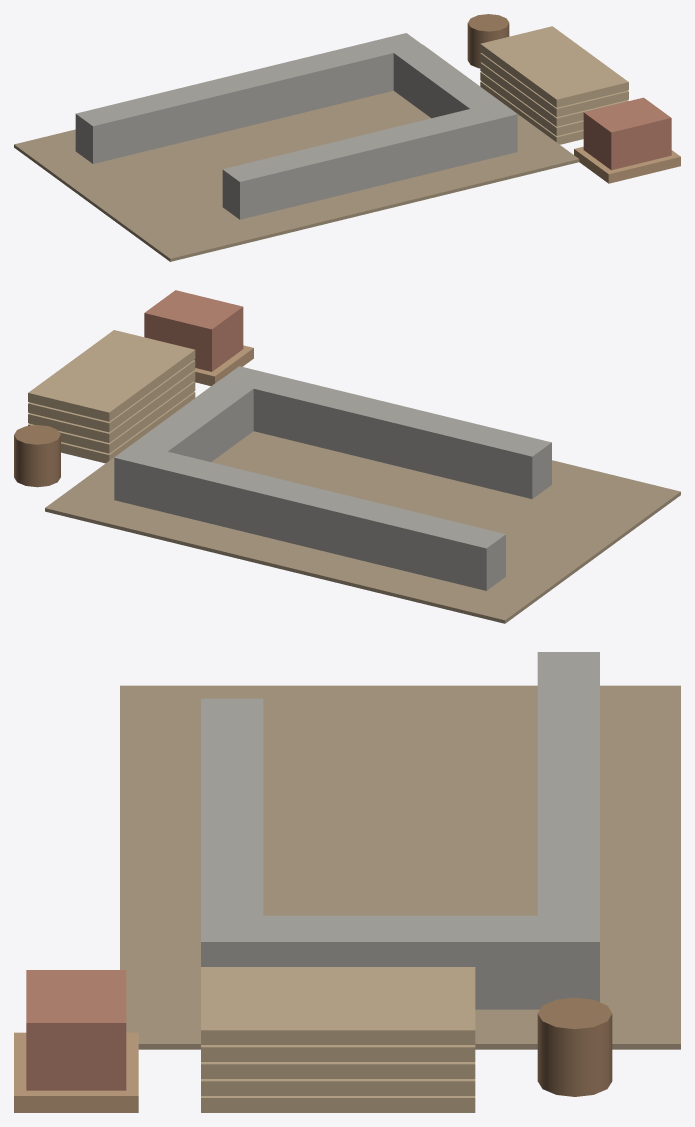
Rendered from garden_shed_site_2.glb.
3 renders of one model, top to bottom at view 1: azimuth 30°, elevation 25°; view 2: azimuth 150°, elevation 25°; view 3: azimuth 270°, elevation 25°, orthographic. The views are drawn at different scales.
Visible parts, largest first — view 1: body; view 2: body; view 3: body.
Part boxes in pixels (x1,y1,x2,y2): body: (14,14,680,261); body: (14,290,680,623); body: (14,652,680,1112).
Size of the model in its own units: 1.2 by 0.1121 by 0.8.
